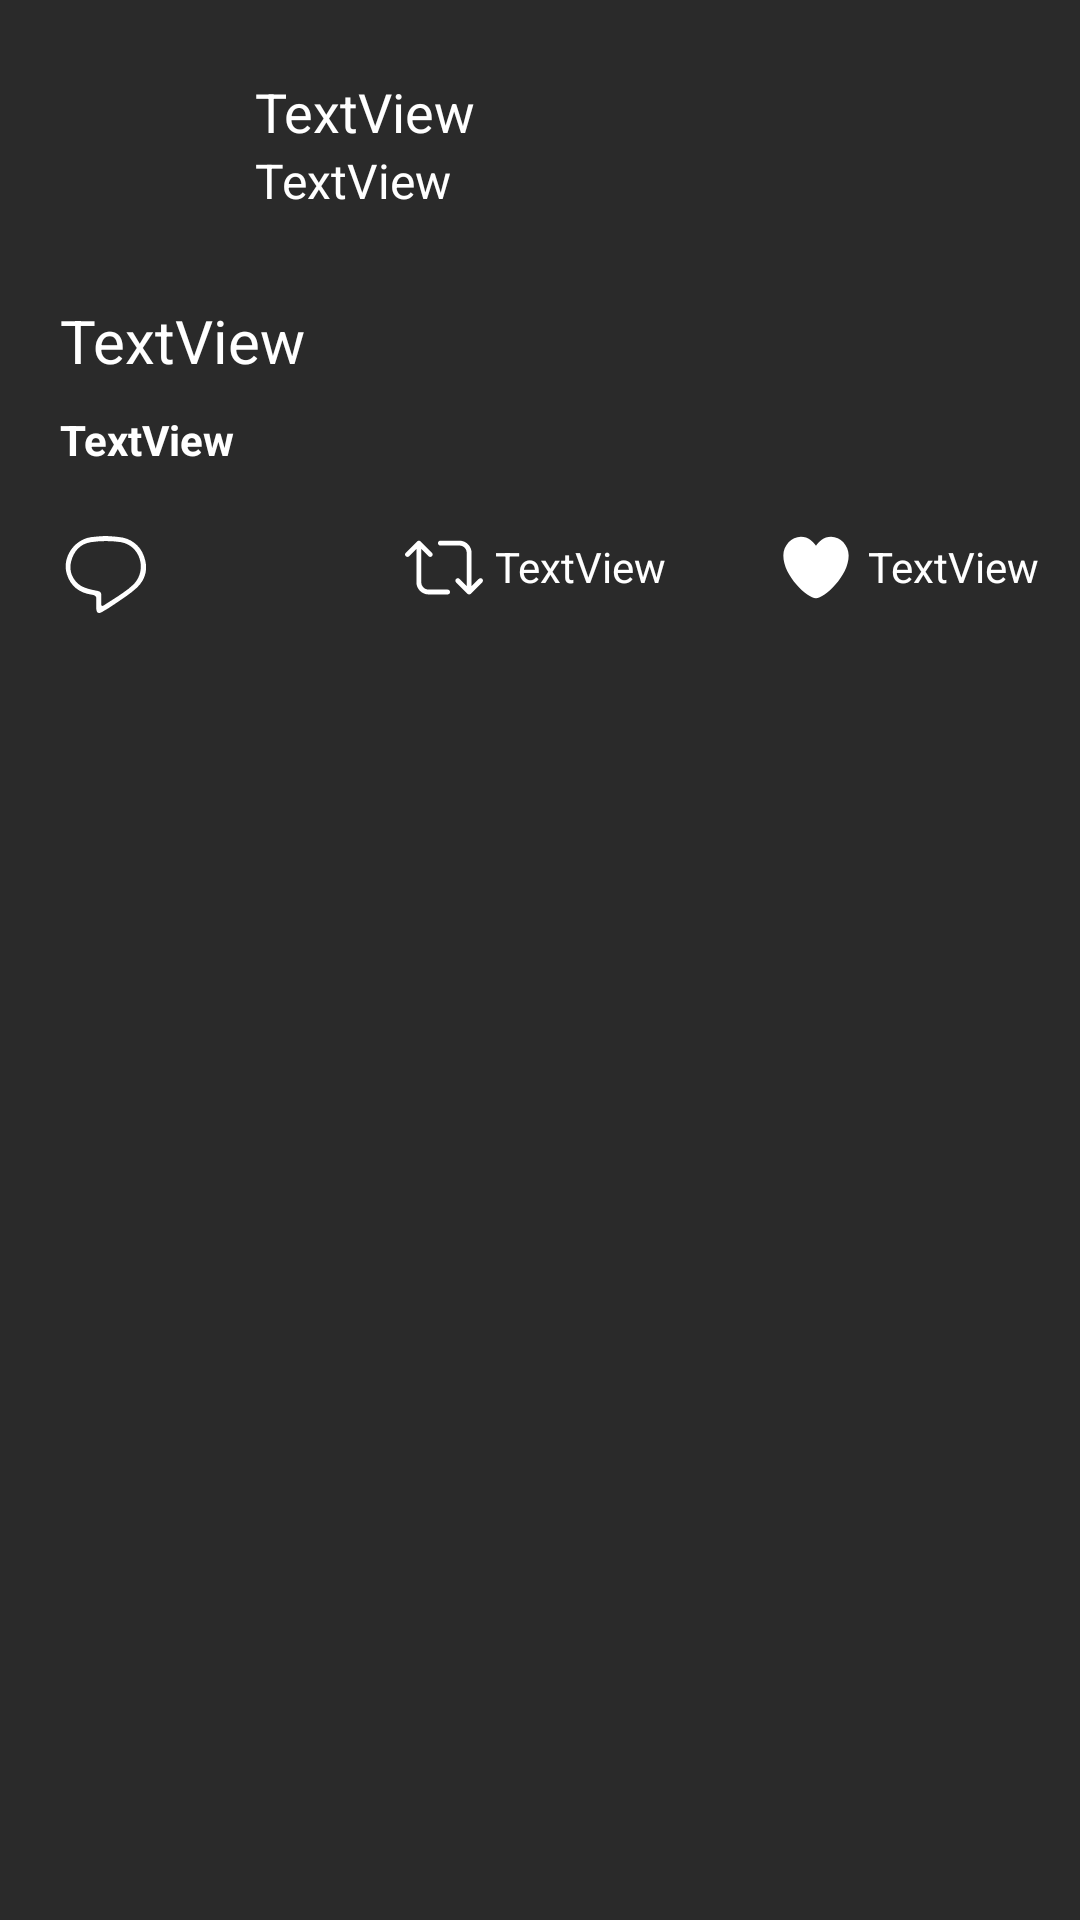

Locate icon controls on the screen. Image size 1080x1920, boxes as (x1, y1, x2, y2).
fave: (783, 536, 849, 599)
reply: (65, 536, 146, 613)
retweet: (405, 540, 483, 595)
